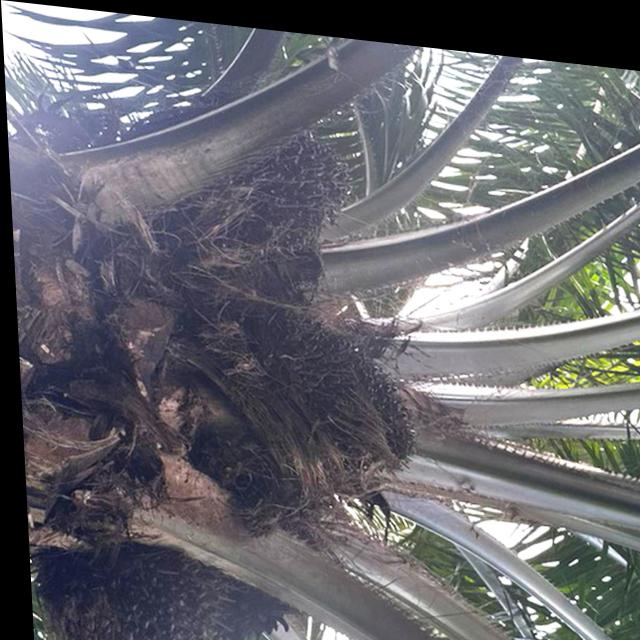unripe: (221, 292, 423, 497)
